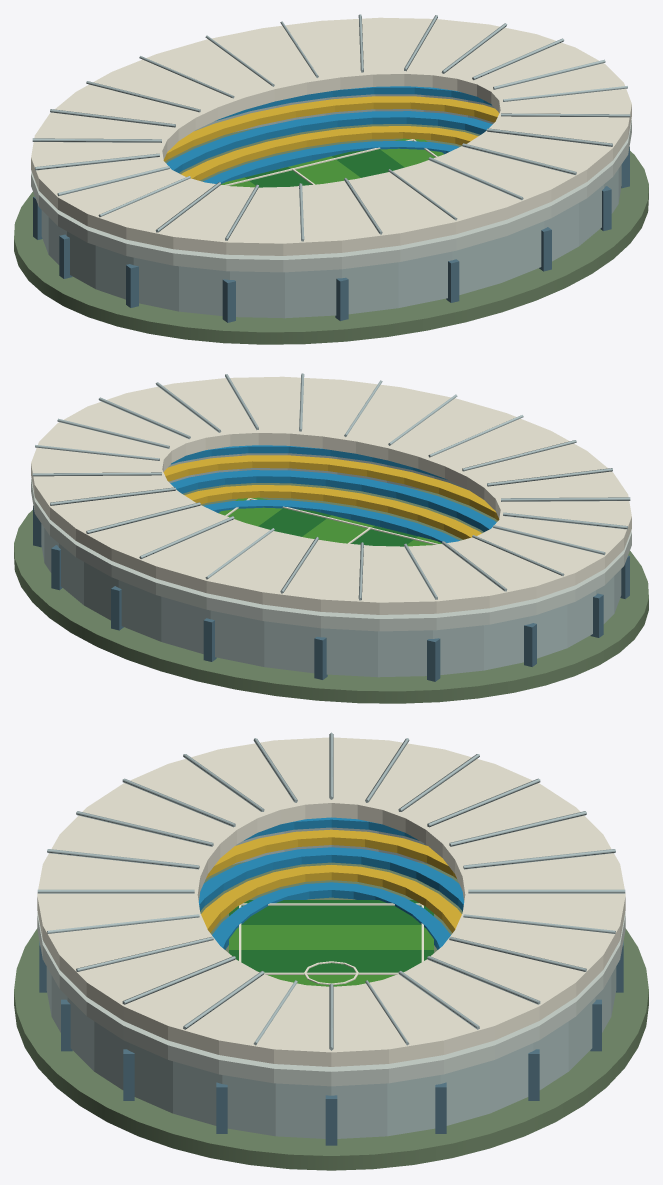
Rendered from maracana.glb.
3 views of the same model, one above another, from view 1: azimuth 30°, elevation 25°; view 2: azimuth 150°, elevation 25°; view 3: azimuth 270°, elevation 25° (orthographic). The views are drawn at different scales.
Visible parts, largest first — view 1: roof_DDE2D6, outer_bowl_BEC7B9, base_A2B19A, rim_D7DDCE, seating_799D9C, roof_ribs_B4C2B7, seating_A1B8B1, columns_778B81, pitch_60924D, pitch_507F40, pitch_lines_DFE4C7; view 2: roof_DDE2D6, outer_bowl_BEC7B9, base_A2B19A, rim_D7DDCE, seating_799D9C, roof_ribs_B4C2B7, seating_A1B8B1, columns_778B81, pitch_60924D, pitch_507F40, pitch_lines_DFE4C7; view 3: roof_DDE2D6, base_A2B19A, outer_bowl_BEC7B9, roof_ribs_B4C2B7, rim_D7DDCE, seating_799D9C, seating_A1B8B1, pitch_507F40, pitch_60924D, columns_778B81, pitch_lines_DFE4C7.
Part boxes in pixels (x1=…): roof_DDE2D6: x1=31, y1=17, x2=631, y2=255; outer_bowl_BEC7B9: x1=41, y1=94, x2=621, y2=318; base_A2B19A: x1=14, y1=124, x2=648, y2=344; rim_D7DDCE: x1=31, y1=119, x2=631, y2=272; seating_799D9C: x1=166, y1=86, x2=492, y2=183; roof_ribs_B4C2B7: x1=32, y1=14, x2=630, y2=241; seating_A1B8B1: x1=163, y1=96, x2=499, y2=180; columns_778B81: x1=33, y1=147, x2=629, y2=322; pitch_60924D: x1=221, y1=138, x2=444, y2=187; pitch_507F40: x1=245, y1=149, x2=404, y2=187; pitch_lines_DFE4C7: x1=223, y1=139, x2=437, y2=185; roof_DDE2D6: x1=31, y1=376, x2=631, y2=614; outer_bowl_BEC7B9: x1=41, y1=453, x2=621, y2=677; base_A2B19A: x1=14, y1=483, x2=648, y2=703; rim_D7DDCE: x1=31, y1=478, x2=631, y2=631; seating_799D9C: x1=170, y1=445, x2=496, y2=542; roof_ribs_B4C2B7: x1=32, y1=373, x2=630, y2=600; seating_A1B8B1: x1=163, y1=455, x2=499, y2=539; columns_778B81: x1=33, y1=506, x2=629, y2=681; pitch_60924D: x1=218, y1=497, x2=441, y2=546; pitch_507F40: x1=258, y1=508, x2=417, y2=546; pitch_lines_DFE4C7: x1=225, y1=498, x2=439, y2=544; roof_DDE2D6: x1=37, y1=737, x2=625, y2=1066; base_A2B19A: x1=14, y1=861, x2=648, y2=1170; outer_bowl_BEC7B9: x1=46, y1=827, x2=616, y2=1138; roof_ribs_B4C2B7: x1=37, y1=732, x2=625, y2=1050; rim_D7DDCE: x1=37, y1=913, x2=625, y2=1086; seating_799D9C: x1=198, y1=817, x2=464, y2=949; seating_A1B8B1: x1=201, y1=829, x2=461, y2=932; pitch_507F40: x1=229, y1=900, x2=433, y2=972; pitch_60924D: x1=229, y1=925, x2=433, y2=986; columns_778B81: x1=39, y1=941, x2=623, y2=1145; pitch_lines_DFE4C7: x1=239, y1=903, x2=423, y2=984.
Size of the model in its own units: 1 by 0.1618 by 0.8091.
